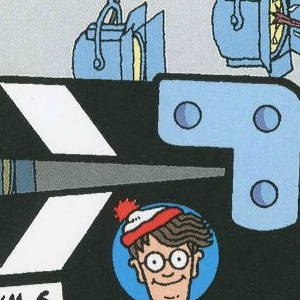Charlie: (77, 68, 222, 232)
